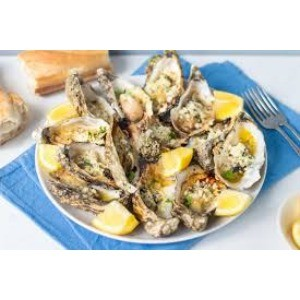oyster_brain food: (83, 96, 209, 206)
